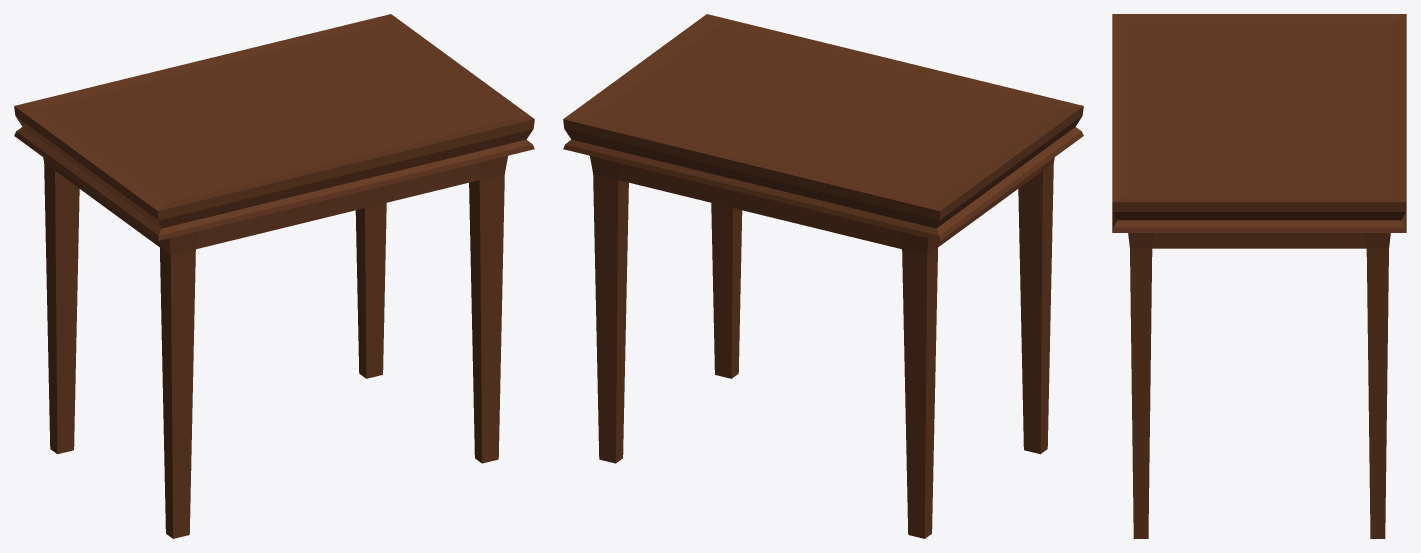
File: S_TableSerre.glb
The picture shows the model from 3 angles, left to right: view 1: azimuth 30°, elevation 25°; view 2: azimuth 150°, elevation 25°; view 3: azimuth 270°, elevation 25°; orthographic projection. The views are drawn at different scales.
Parts seen in each view (by area): view 1: S_TableSerre_low; view 2: S_TableSerre_low; view 3: S_TableSerre_low.
Part boxes in pixels (x1=…): S_TableSerre_low: x1=14, y1=14, x2=534, y2=538; S_TableSerre_low: x1=563, y1=14, x2=1083, y2=538; S_TableSerre_low: x1=1112, y1=14, x2=1406, y2=538.
Bounding box in the file's own units: 0.9926 × 0.8597 × 0.6557.
